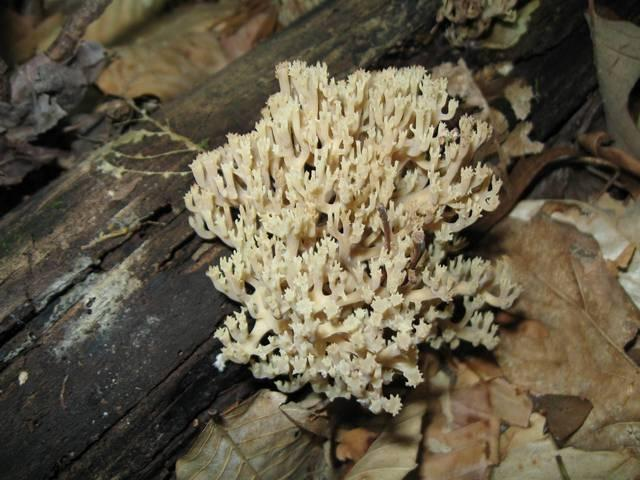edible_mushroom: (181, 57, 523, 417)
